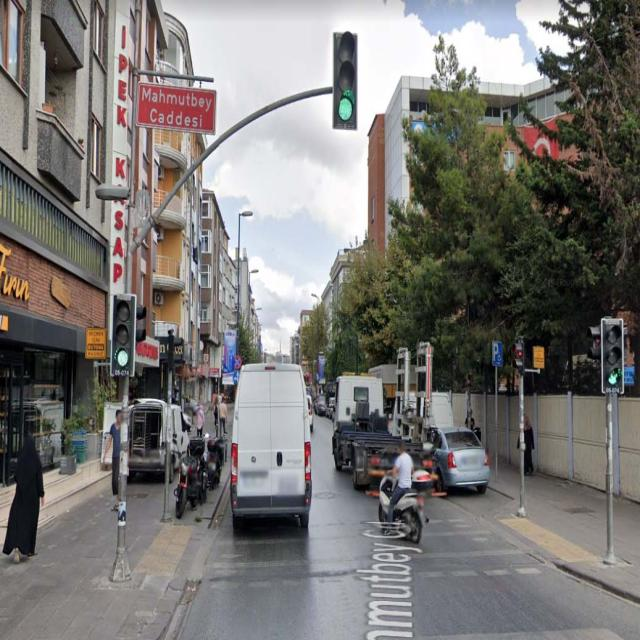yesil: (332, 33, 359, 130), (112, 292, 134, 378), (602, 319, 624, 394)
